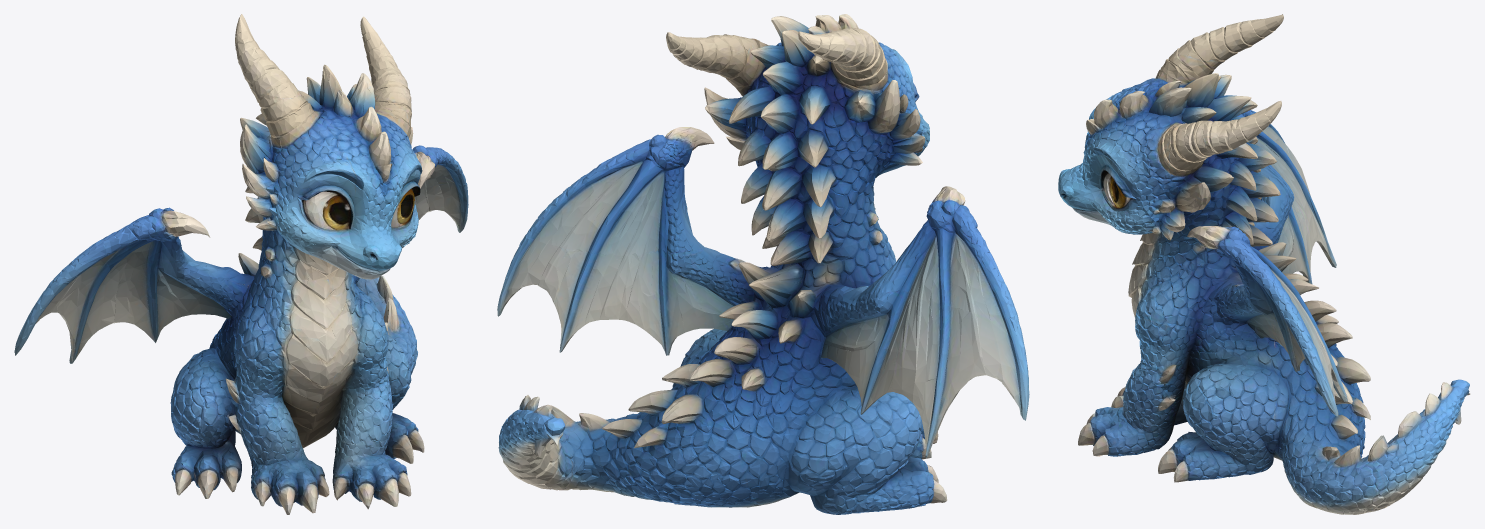
Rendered from comparison-hi3d-master.glb.
3 views of the same model, side by side, from view 1: azimuth 30°, elevation 25°; view 2: azimuth 150°, elevation 25°; view 3: azimuth 270°, elevation 25° (orthographic). The views are drawn at different scales.
Parts seen in each view (by area): view 1: world; view 2: world; view 3: world.
Part boxes in pixels (<box>): world: <box>14,14,468,514</box>; world: <box>497,14,1029,514</box>; world: <box>1058,14,1470,514</box>.
Size of the model in its own units: 0.9998 by 0.8967 by 0.8021.
Materials: 1 (1 with a texture image).
